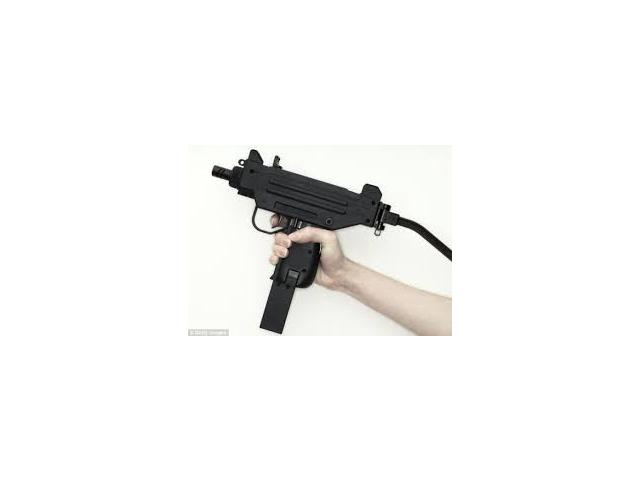pistol: (209, 147, 397, 335)
